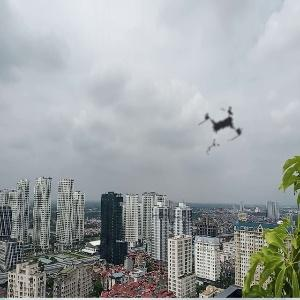drone: (172, 76, 271, 175)
